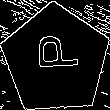P_W: (31, 40, 81, 80)
